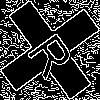R: (25, 25, 83, 81)
